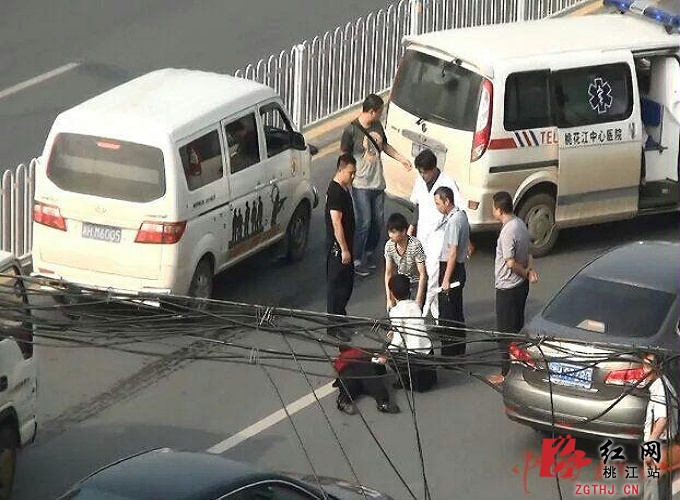falling: (326, 335, 403, 416)
